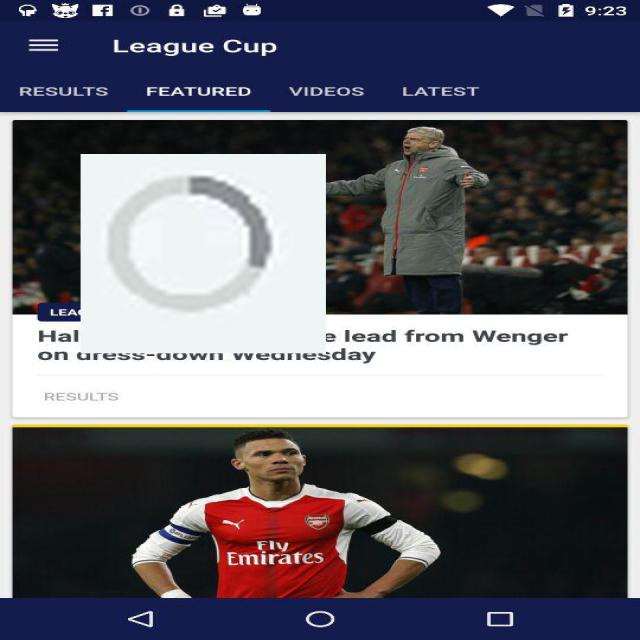misdirection: (81, 154, 326, 353)
